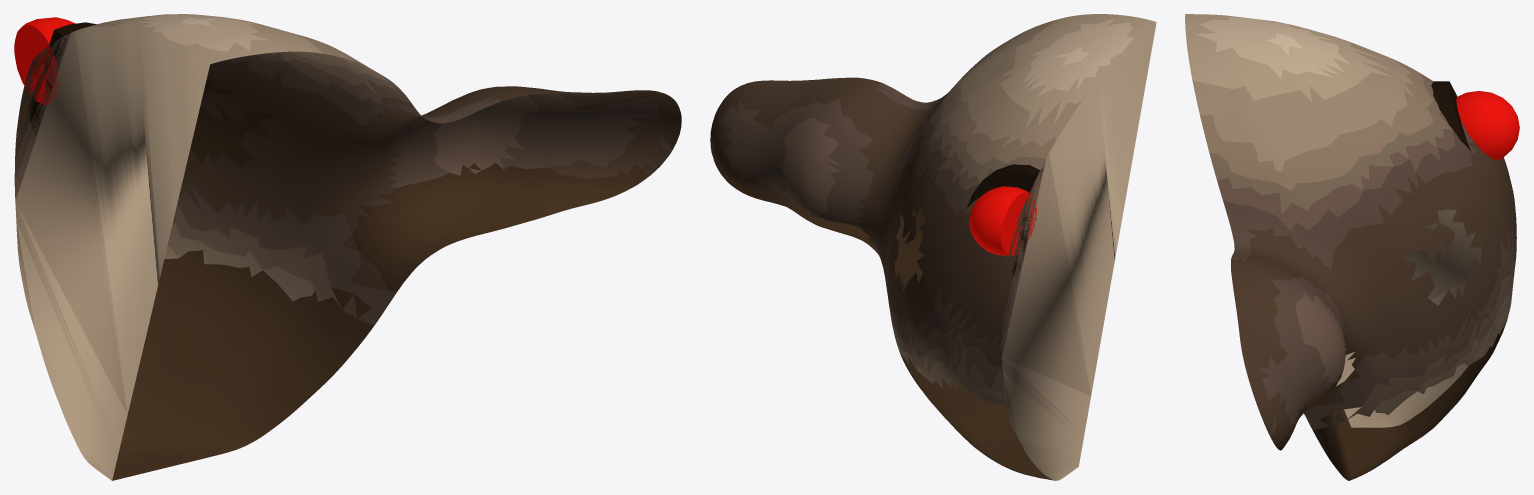
Rendered from tan_dome_tr.glb.
3 renders of one model, left to right at view 1: azimuth 30°, elevation 25°; view 2: azimuth 150°, elevation 25°; view 3: azimuth 270°, elevation 25°, orthographic. The views are drawn at different scales.
Parts seen in each view (by area): view 1: tan_dome_tr; view 2: tan_dome_tr; view 3: tan_dome_tr.
Part boxes in pixels (x1=…): tan_dome_tr: x1=14, y1=14, x2=681, y2=480; tan_dome_tr: x1=710, y1=14, x2=1156, y2=480; tan_dome_tr: x1=1185, y1=14, x2=1519, y2=480.
Bounding box in the file's own units: 17.87 × 16.19 × 11.86.
